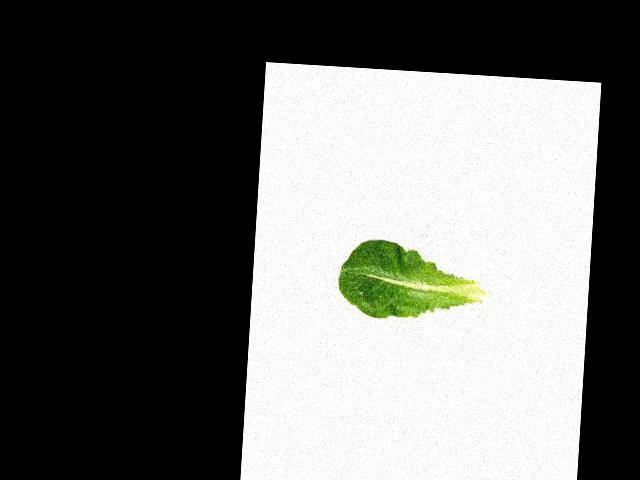lettuce: (337, 238, 493, 325)
